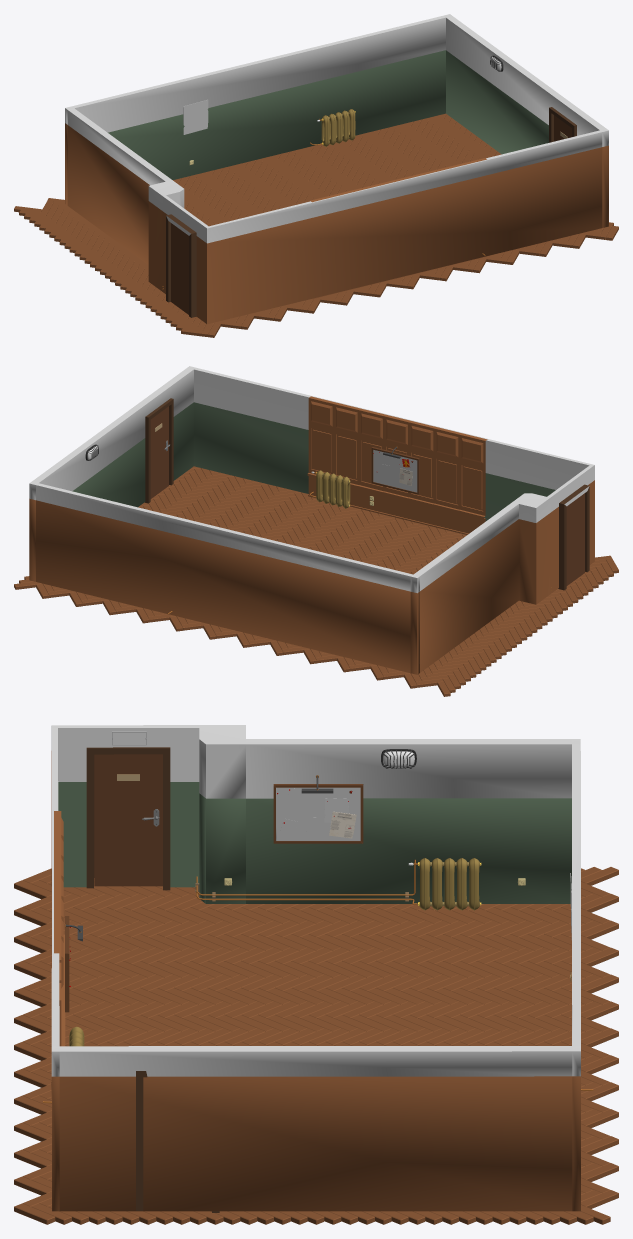
File: soviet office v1(1).fbx
3 views of the same model, one above another, from view 1: azimuth 30°, elevation 25°; view 2: azimuth 150°, elevation 25°; view 3: azimuth 270°, elevation 25° (orthographic). The views are drawn at different scales.
Parts seen in each view (by area): view 1: Desk.001, Cube.053, Desk.002, Plane.024, Plane.031, Desk.004; view 2: Desk.001, Cube.053, Desk.004, Desk.002, Desk.006, Plane.032, Plane.023; view 3: Desk.001, Cube.053, Desk.002, Plane.021, Plane.007, Desk.004.
Part boxes in pixels (x1,y1,x2,y2): Desk.001: (65, 14, 608, 324); Cube.053: (14, 113, 618, 337); Desk.002: (171, 223, 188, 314); Plane.024: (310, 109, 355, 146); Plane.031: (183, 99, 208, 134); Desk.004: (310, 158, 486, 299); Desk.001: (29, 366, 594, 674); Cube.053: (14, 466, 618, 696); Desk.004: (307, 396, 487, 534); Desk.002: (566, 493, 584, 585); Desk.006: (150, 406, 168, 498); Plane.032: (371, 447, 419, 494); Plane.023: (310, 470, 350, 508); Desk.001: (51, 725, 580, 1212); Cube.053: (14, 867, 618, 1224); Desk.002: (94, 754, 162, 886); Plane.021: (196, 858, 481, 910); Plane.007: (273, 784, 363, 843); Desk.004: (54, 811, 65, 1046).
Bounding box in the file's own units: 2334 × 513 × 1689.
